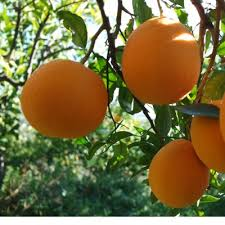orange: (117, 14, 203, 104), (18, 57, 110, 140), (143, 131, 211, 207)
